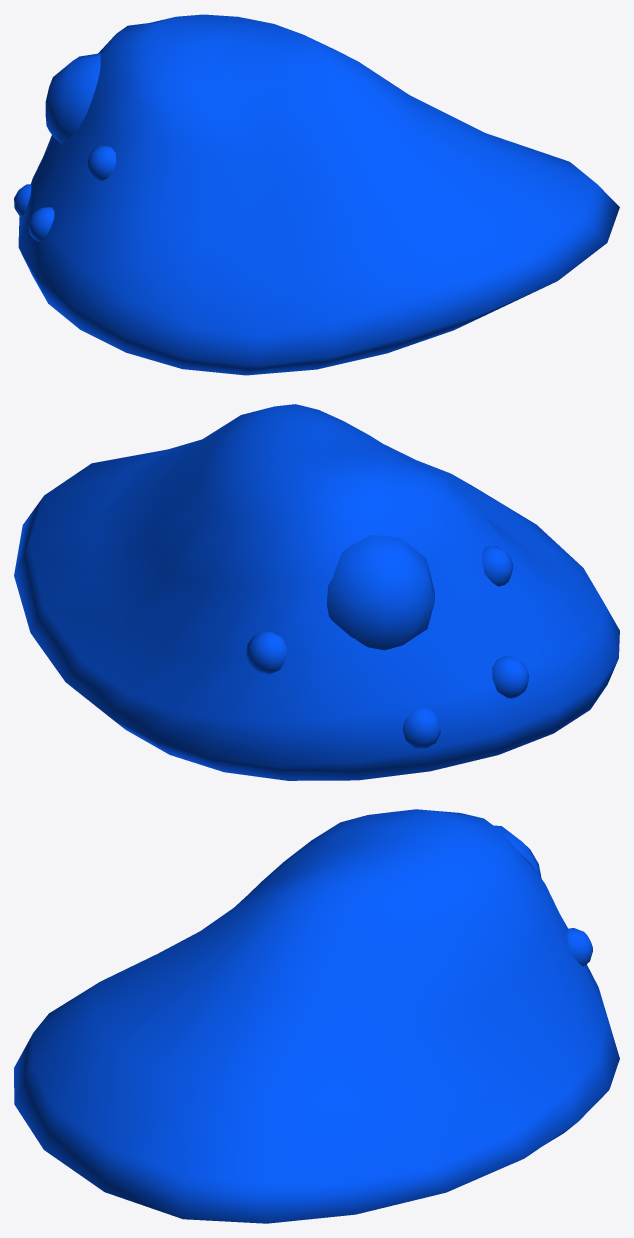
File: Slime.obj
3 renders of one model, top to bottom at view 1: azimuth 30°, elevation 25°; view 2: azimuth 150°, elevation 25°; view 3: azimuth 270°, elevation 25°, orthographic. The views are drawn at different scales.
Parts seen in each view (by area): view 1: Slime_LP, Oeil_LP; view 2: Slime_LP, Oeil_LP; view 3: Slime_LP, Oeil_LP.
Part boxes in pixels (x1,y1,x2,y2): Slime_LP: (18, 14, 619, 375); Oeil_LP: (14, 53, 116, 241); Slime_LP: (14, 404, 619, 780); Oeil_LP: (246, 534, 528, 748); Slime_LP: (14, 809, 619, 1223); Oeil_LP: (493, 825, 592, 966).
Bounding box in the file's own units: 603 × 270 × 548.
